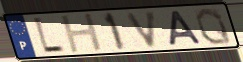1: (102, 11, 128, 52)
A: (167, 9, 204, 47)
H: (59, 12, 106, 55)
L: (31, 16, 67, 56)
Q: (194, 6, 234, 46)
V: (124, 9, 158, 49)
